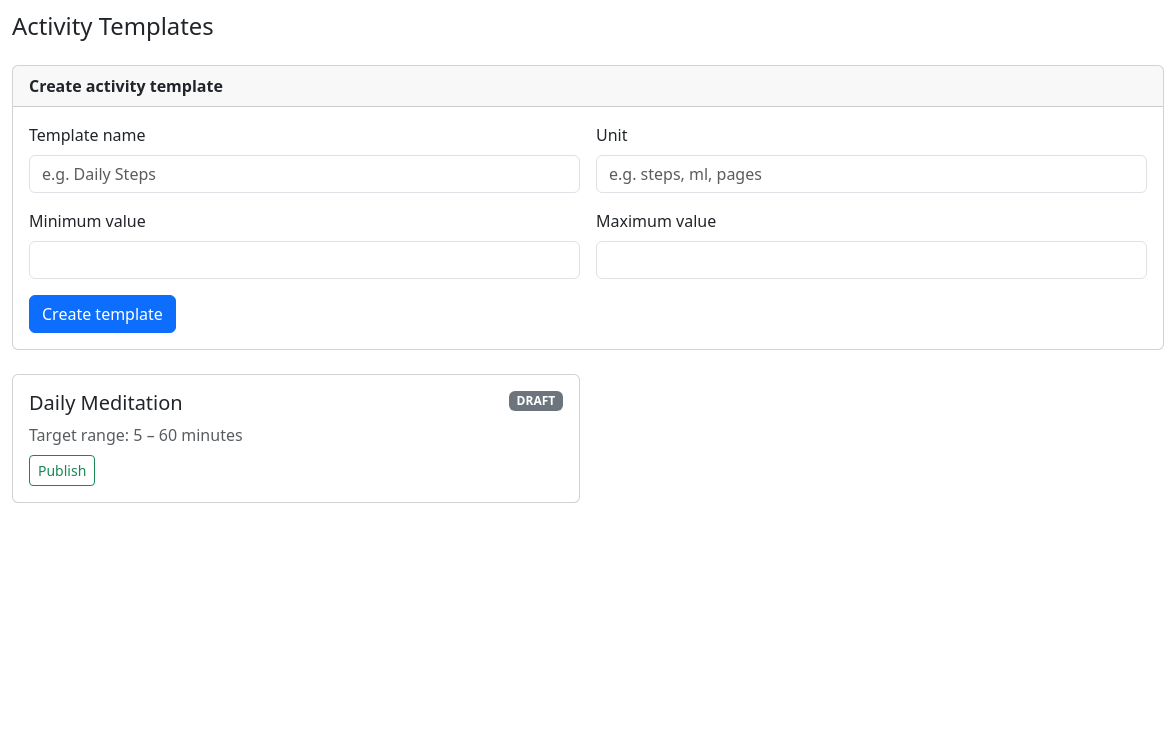
Test case: F-02 Activity Template UI › TEST-UI-04: Publish action & Participant view › manager can publish a draft template and see its status change to PUBLISHED
Expected: the heading "Daily Meditation" is shown, [29,391,183,415]
Click the button "Publish" at (62, 470), box [29,455,95,486]
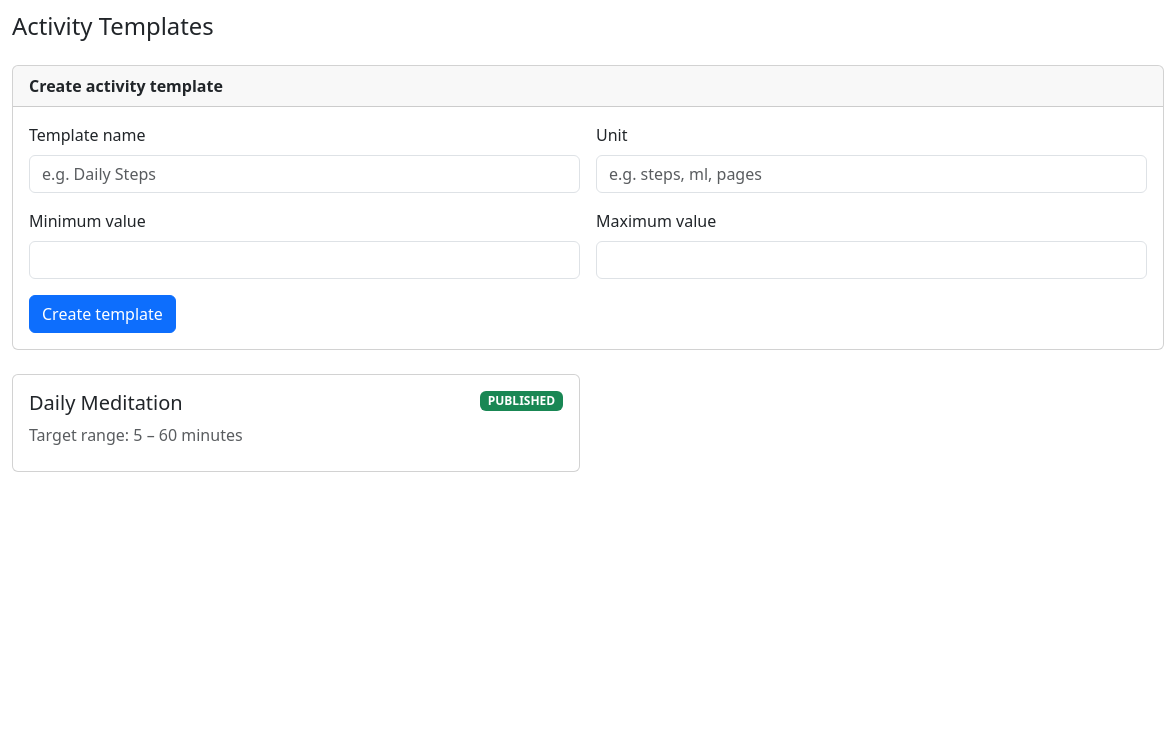
Expected: the text "PUBLISHED" is shown, [480,391,563,411]
